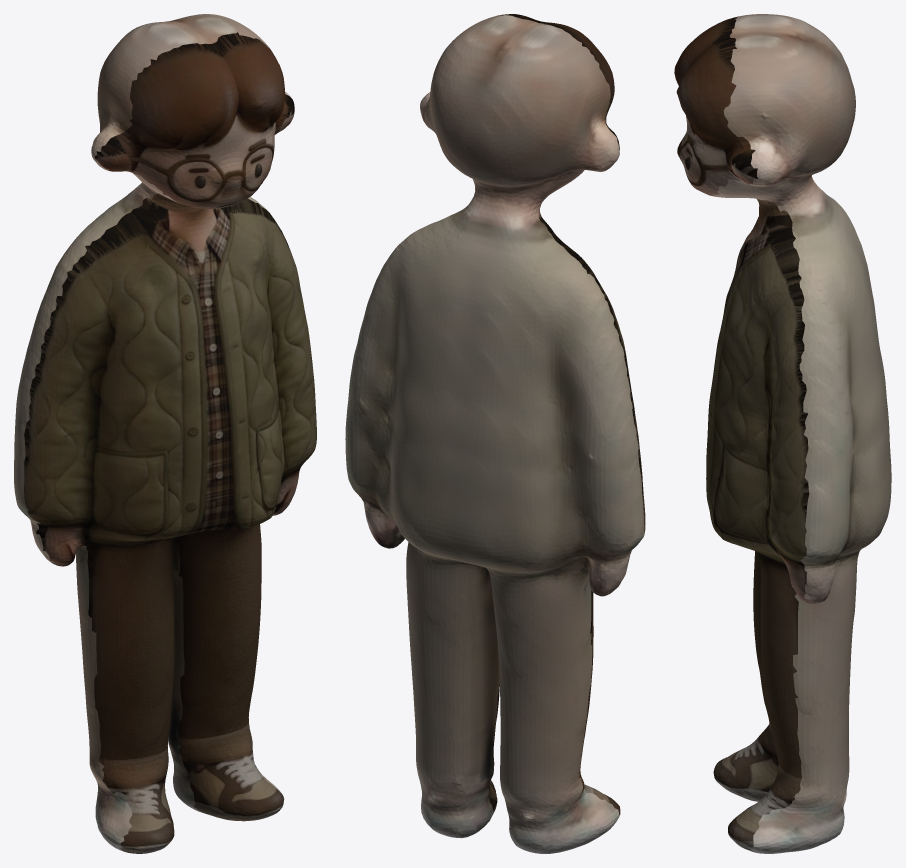
The model's file is senior.glb.
The picture shows the model from 3 angles, left to right: view 1: azimuth 30°, elevation 25°; view 2: azimuth 150°, elevation 25°; view 3: azimuth 270°, elevation 25°; orthographic projection.
Parts seen in each view (by area): view 1: body_t, legR_t, legL_t, body_c, legL_c, legR_c; view 2: body_c, legL_c, legR_c, body_t, legL_t; view 3: body_c, body_t, legR_c, legR_t, legL_t.
Part boxes in pixels (bbox=[...]): body_t: bbox=[24, 32, 316, 566]; legR_t: bbox=[174, 508, 284, 821]; legL_t: bbox=[87, 546, 174, 853]; body_c: bbox=[14, 14, 292, 565]; legL_c: bbox=[76, 548, 132, 850]; legR_c: bbox=[168, 537, 280, 816]; body_c: bbox=[345, 15, 644, 596]; legL_c: bbox=[490, 575, 619, 853]; legR_c: bbox=[383, 537, 499, 838]; body_t: bbox=[497, 14, 645, 561]; legL_t: bbox=[579, 590, 620, 814]; body_c: bbox=[711, 14, 891, 603]; body_t: bbox=[674, 16, 809, 601]; legR_c: bbox=[751, 562, 857, 853]; legR_t: bbox=[728, 563, 801, 852]; legL_t: bbox=[713, 551, 778, 801].
Bounding box in the file's own units: 0.3526 × 0.925 × 0.2294.
Materials: 1 (1 with a texture image).
